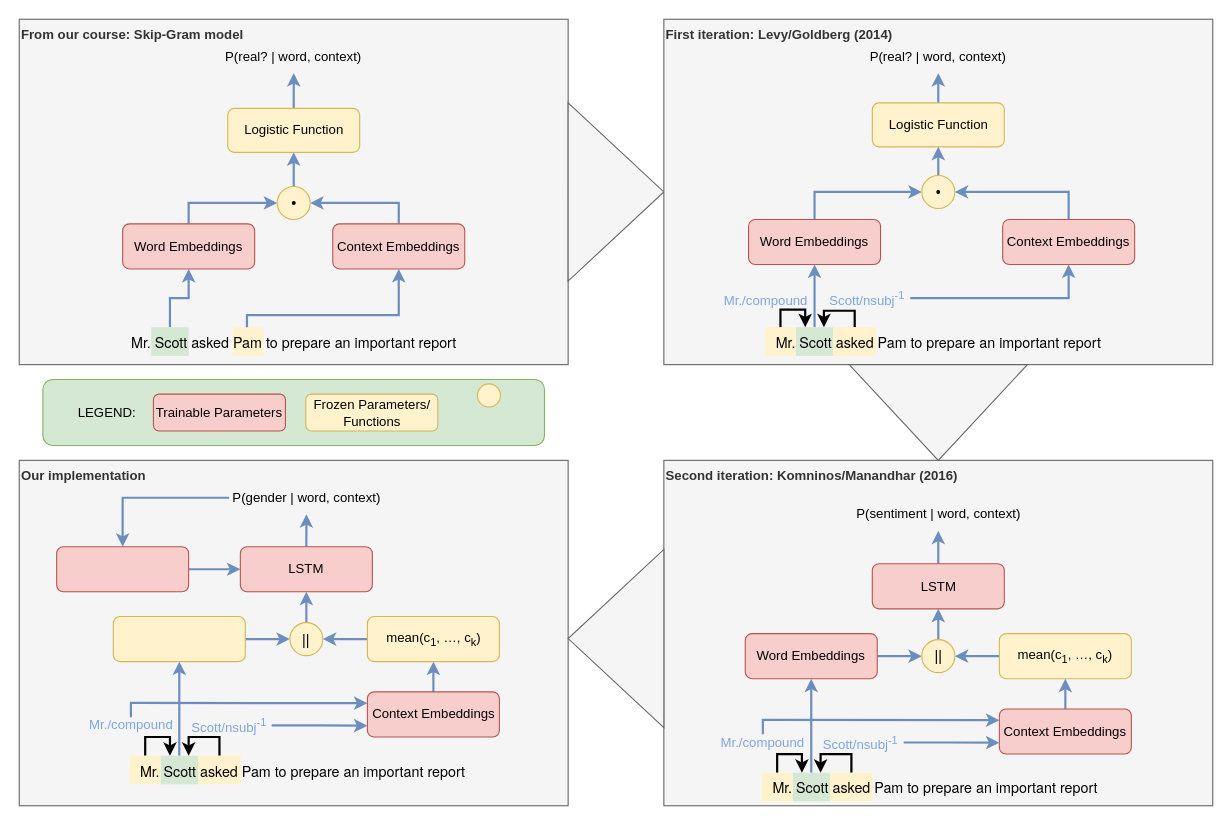
Image size: 1232x825. Some labels were removed from this diagram. The shapes that lost their labels are listed below. From the top down, each one's centre as x and y in pixels, then its label:
At point (488, 395): "Mathematical Operation".
At point (122, 569): "Previous gender".
At point (178, 638): "Word Embeddings (Pretrained GloVe)".
